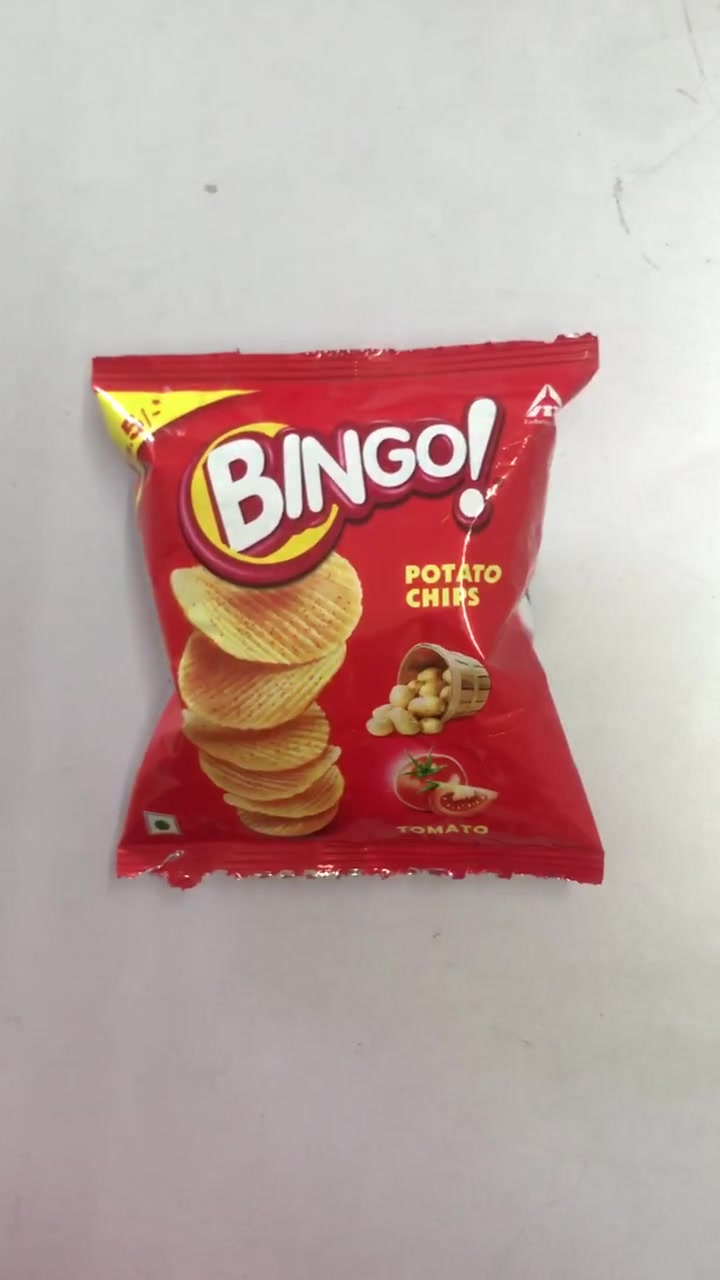Bingo: (99, 345, 603, 878)
